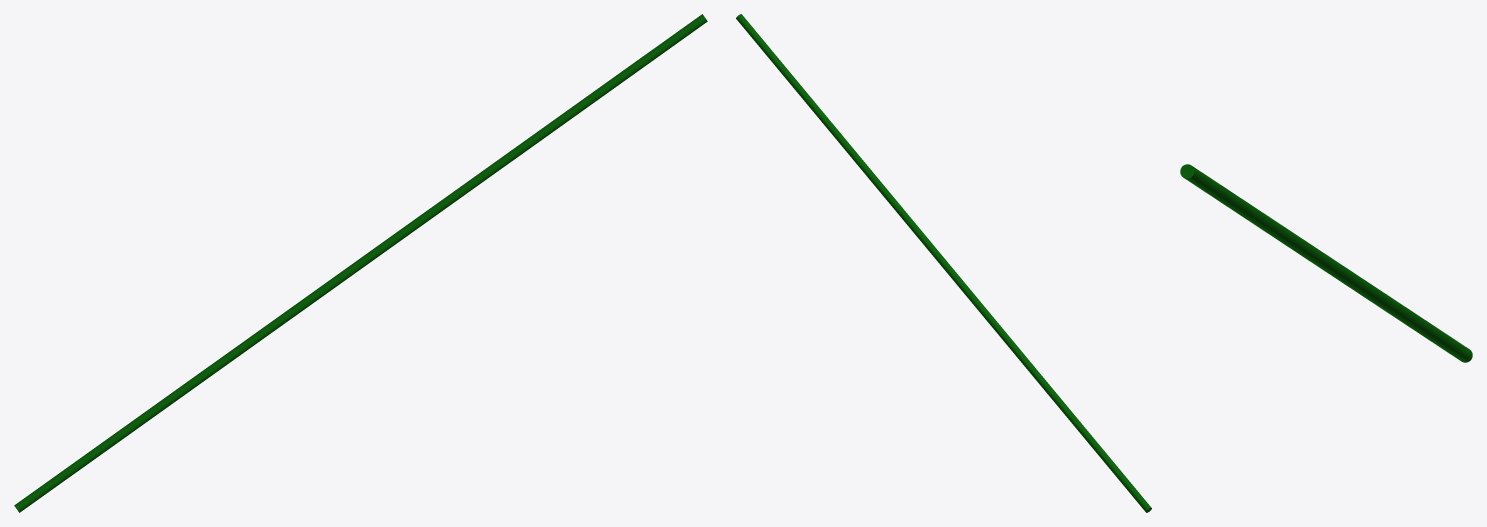
The model's file is Event_421115418_jet_0.fbx.
The picture shows the model from 3 angles, left to right: view 1: azimuth 30°, elevation 25°; view 2: azimuth 150°, elevation 25°; view 3: azimuth 270°, elevation 25°; orthographic projection. The views are drawn at different scales.
Visible parts, largest first — view 1: Model; view 2: Model; view 3: Model.
Part boxes in pixels (<box>): Model: <box>14,14,707,512</box>; Model: <box>736,14,1151,512</box>; Model: <box>1180,164,1472,362</box>.
Size of the model in its own units: 3.04 by 1.99 by 0.796.
